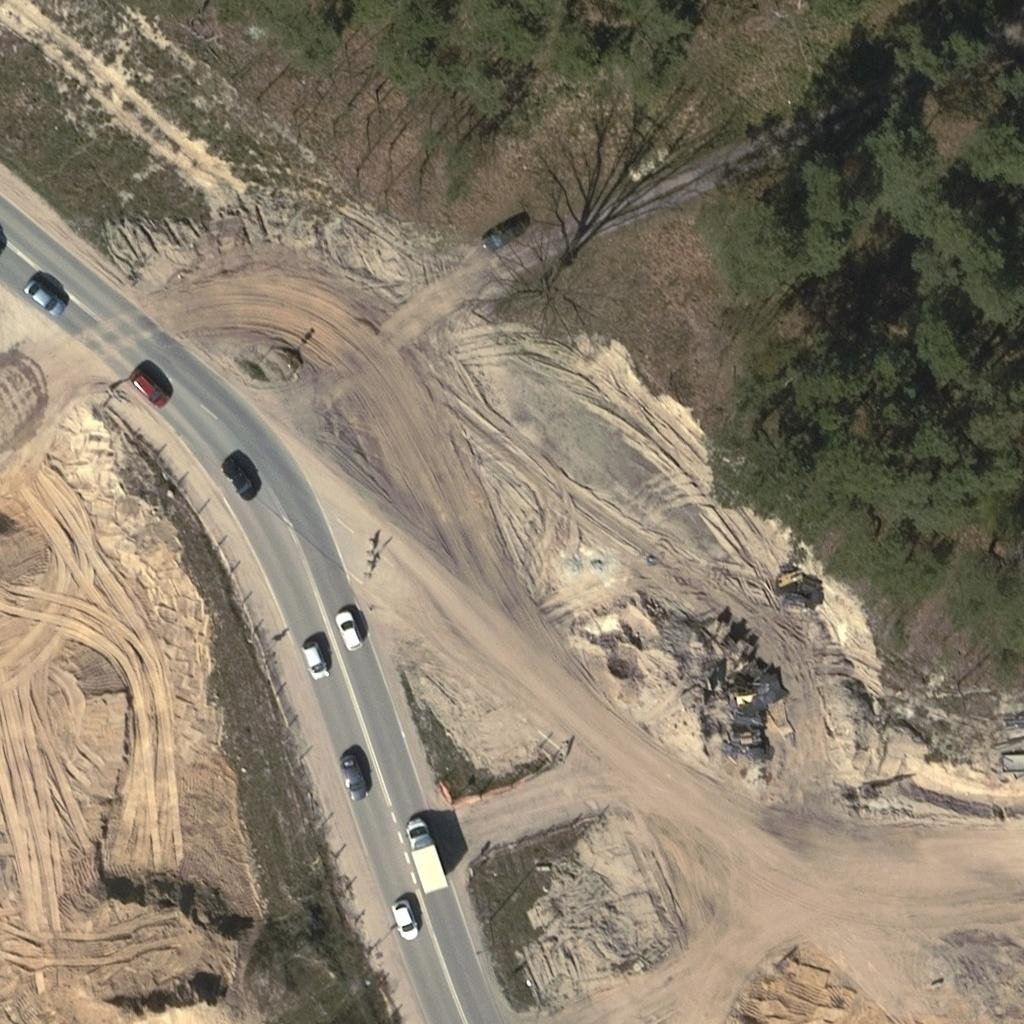samochod_osobowy: (476, 215, 531, 256)
